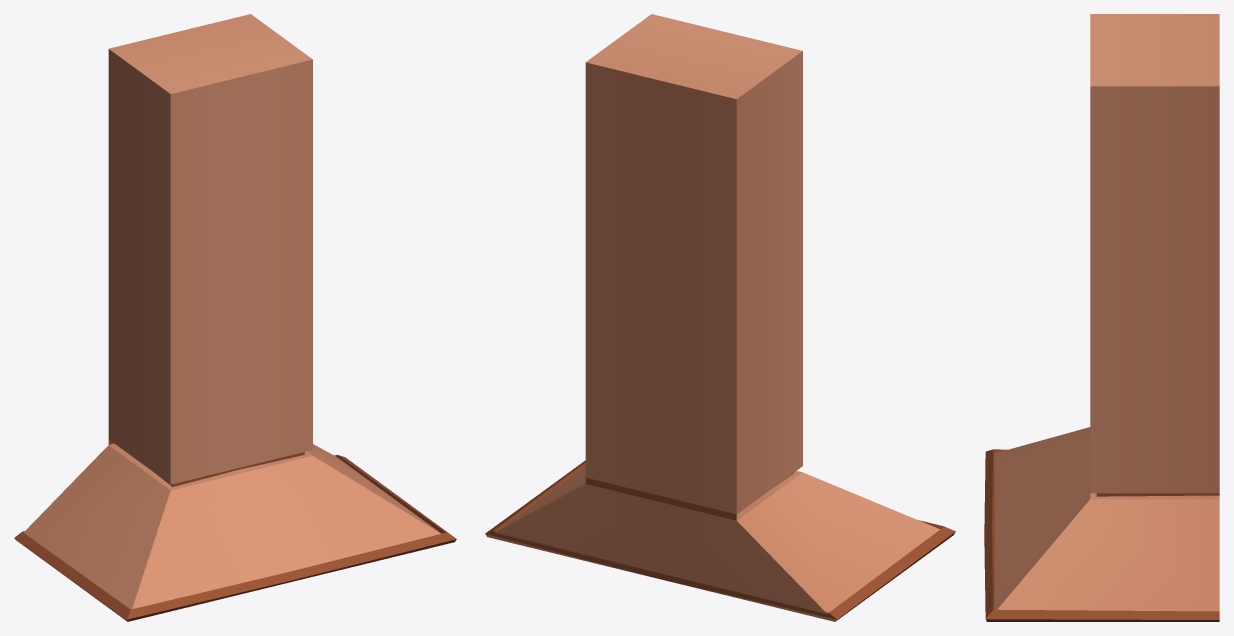
The model's file is Bell.fbx.
The picture shows the model from 3 angles, left to right: view 1: azimuth 30°, elevation 25°; view 2: azimuth 150°, elevation 25°; view 3: azimuth 270°, elevation 25°; orthographic projection. The views are drawn at different scales.
Parts seen in each view (by area): view 1: Cube.002; view 2: Cube.002; view 3: Cube.002.
Boxes of the visible parts, x1,y1,x2,y2 form: Cube.002: [14, 14, 456, 621]; Cube.002: [485, 14, 955, 621]; Cube.002: [984, 14, 1219, 621].
Size of the model in its own units: 349 by 472 by 206.
